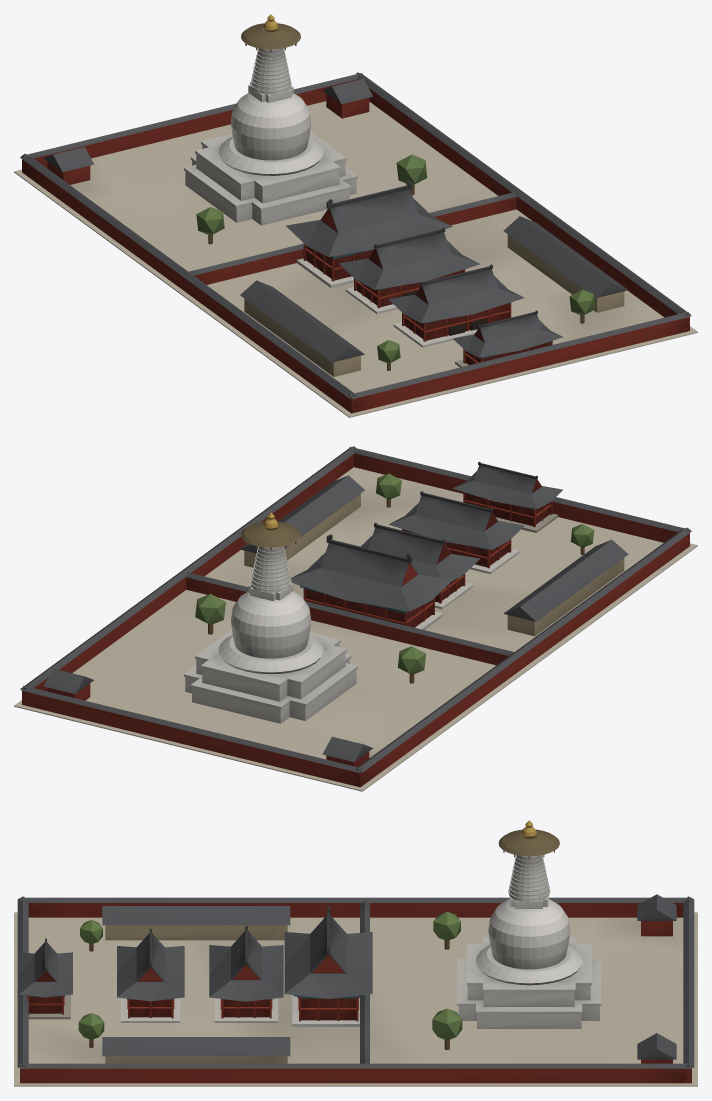
The model's file is miaoying.glb.
The picture shows the model from 3 angles, top to bottom: view 1: azimuth 30°, elevation 25°; view 2: azimuth 150°, elevation 25°; view 3: azimuth 270°, elevation 25°; orthographic projection.
Parts seen in each view (by area): view 1: p0_walls, p1_stupa, p2_trees; view 2: p0_walls, p1_stupa, p2_trees; view 3: p0_walls, p1_stupa, p2_trees.
Boxes of the visible parts, left/top/right/bottom form: p0_walls: left=14, top=72, right=697, bottom=417; p1_stupa: left=43, top=14, right=628, bottom=376; p2_trees: left=196, top=154, right=595, bottom=370; p0_walls: left=14, top=446, right=697, bottom=791; p1_stupa: left=43, top=475, right=628, bottom=766; p2_trees: left=195, top=461, right=594, bottom=683; p0_walls: left=14, top=896, right=697, bottom=1086; p1_stupa: left=26, top=820, right=676, bottom=1063; p2_trees: left=19, top=906, right=462, bottom=1049.
Bounding box in the file's own units: 90 × 43.52 × 150.
